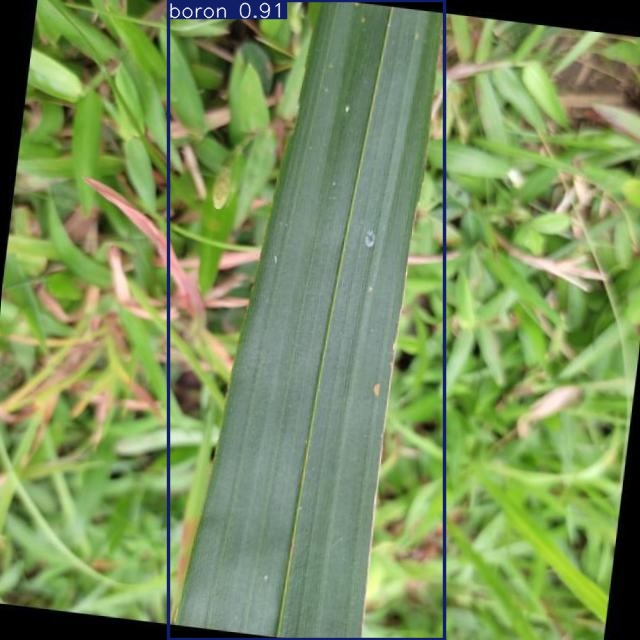nitrogen: (169, 0, 445, 640)
